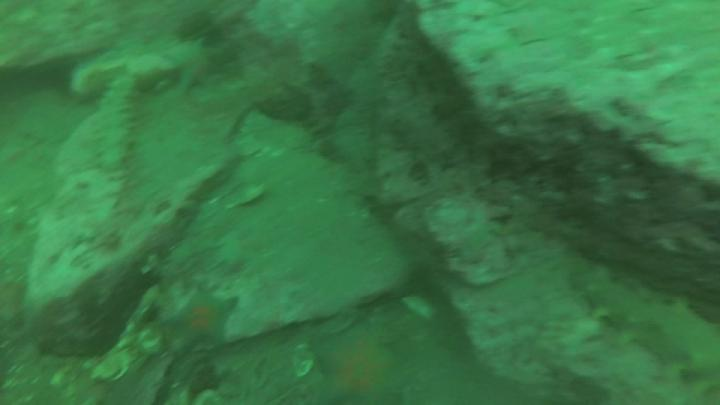holothurian: (586, 278, 720, 405), (95, 73, 140, 177)
starfish: (309, 322, 430, 405), (166, 280, 242, 358)
